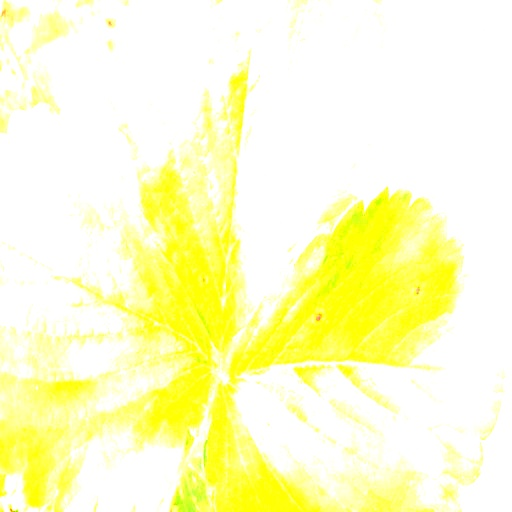Leaf Spot: (109, 0, 394, 368), (201, 182, 509, 511), (0, 89, 218, 511)
